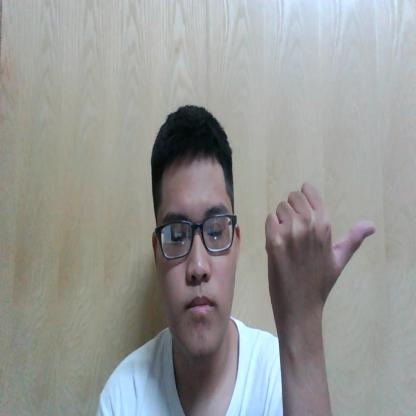left: (263, 179, 376, 304)
